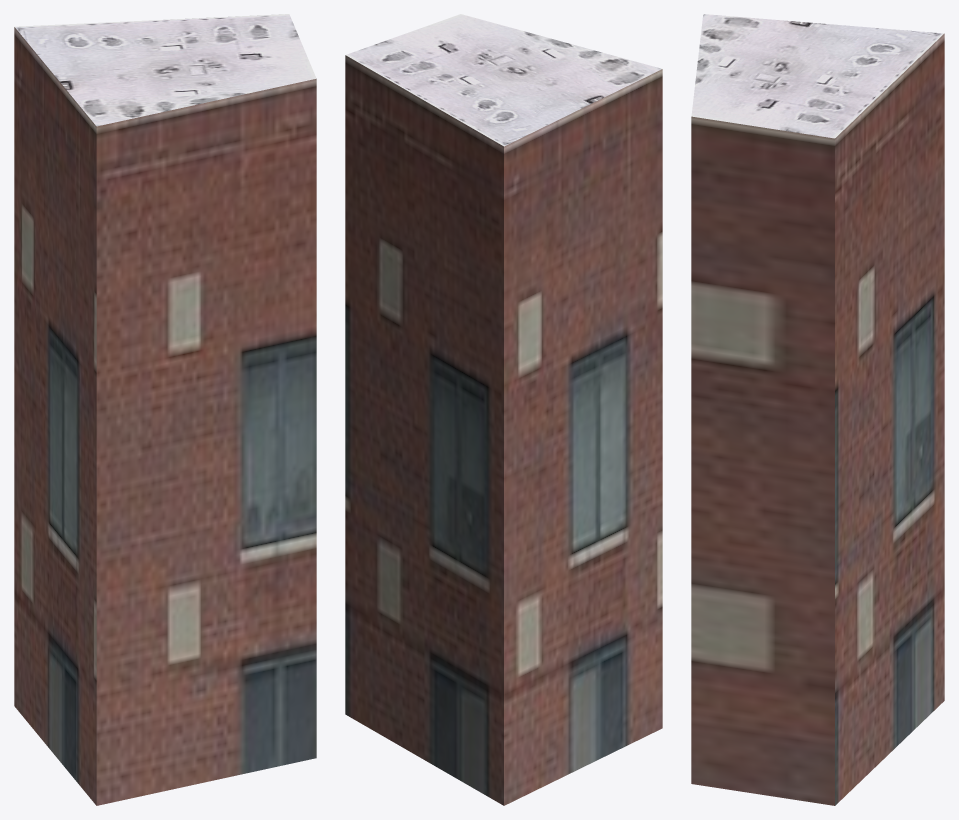
The model's file is RelTex__19.fbx.
3 views of the same model, side by side, from view 1: azimuth 30°, elevation 25°; view 2: azimuth 150°, elevation 25°; view 3: azimuth 270°, elevation 25° (orthographic). The views are drawn at different scales.
Visible parts, largest first — view 1: CityEngineMaterial_15_m, CityEngineMaterial_28_m; view 2: CityEngineMaterial_15_m, CityEngineMaterial_28_m; view 3: CityEngineMaterial_15_m, CityEngineMaterial_28_m.
Boxes of the visible parts, <box> form: CityEngineMaterial_15_m: <box>14,27,316,805</box>; CityEngineMaterial_28_m: <box>14,14,316,126</box>; CityEngineMaterial_15_m: <box>345,55,662,805</box>; CityEngineMaterial_28_m: <box>345,14,661,146</box>; CityEngineMaterial_15_m: <box>691,33,944,805</box>; CityEngineMaterial_28_m: <box>691,14,944,138</box>.
Size of the model in its own units: 2.4 by 6 by 2.06.
2 materials, 2 textured.
